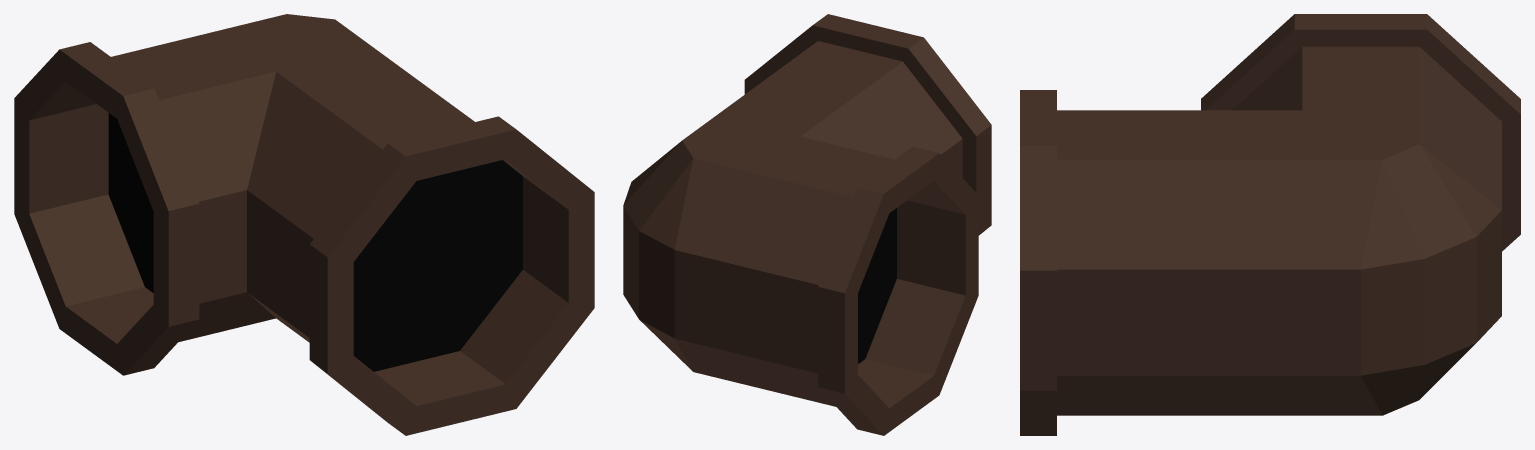
The model's file is PipeElbow.fbx.
3 views of the same model, side by side, from view 1: azimuth 30°, elevation 25°; view 2: azimuth 150°, elevation 25°; view 3: azimuth 270°, elevation 25° (orthographic). The views are drawn at different scales.
Visible parts, largest first — view 1: Cylinder.016; view 2: Cylinder.016; view 3: Cylinder.016.
Boxes of the visible parts, x1,y1,x2,y2 form: Cylinder.016: [14, 14, 594, 435]; Cylinder.016: [623, 14, 991, 435]; Cylinder.016: [1020, 14, 1520, 435].
Size of the model in its own units: 46.59 by 36.71 by 57.45.
